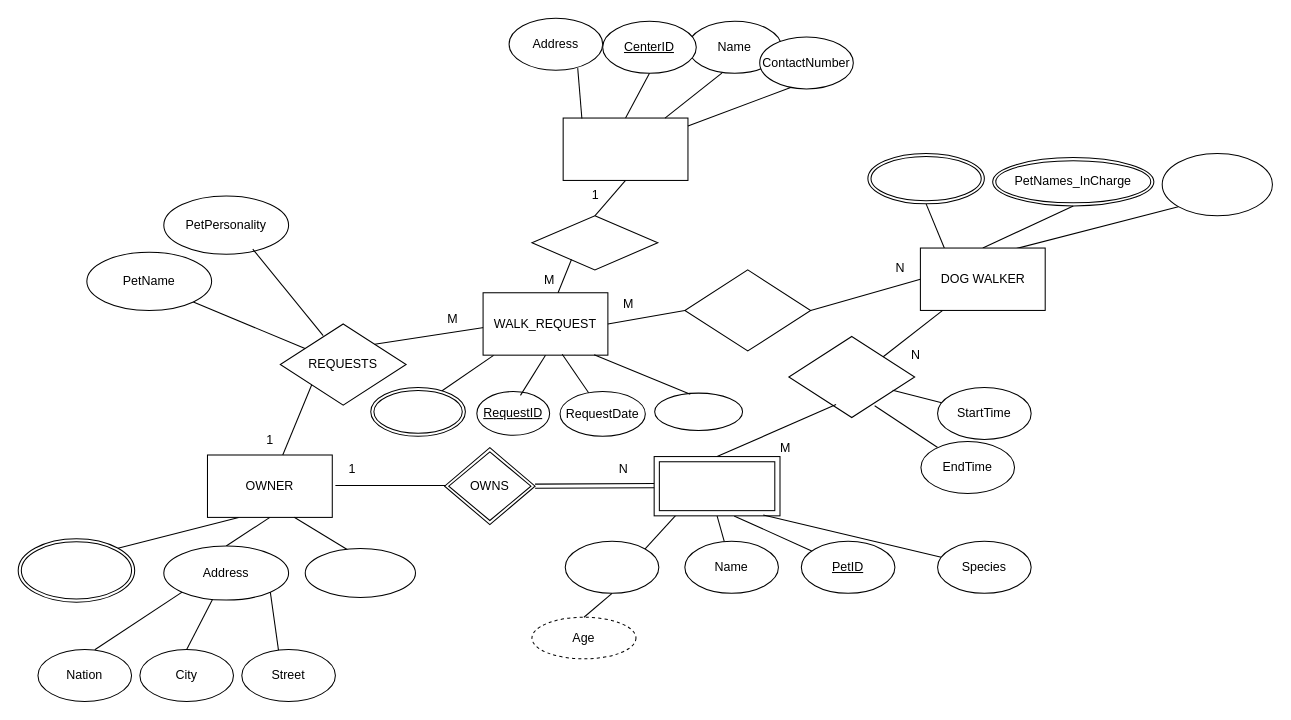
Image size: 1291x720. Some labels were removed from this diagram. The shapes that lost their labels are listed below. From the top down, each one's centre as x and y in pixels, then its label:
At point 625,148: "PET CARE CENTER".
At point 925,178: "Qualifications".
At point 1216,184: "WalkerID".
At point 594,242: "RECEIVES".
At point 747,310: "ASSIGNS".
At point 851,376: "TAKES A WALK WITH".
At point 417,411: "FavorWalking Routes".
At point 698,411: "WalkSchedule".
At point 716,486: "PET".
At point 76,570: "PhoneNumbers".
At point 359,572: "OwnerID".
At point 611,566: "Birthdate".
